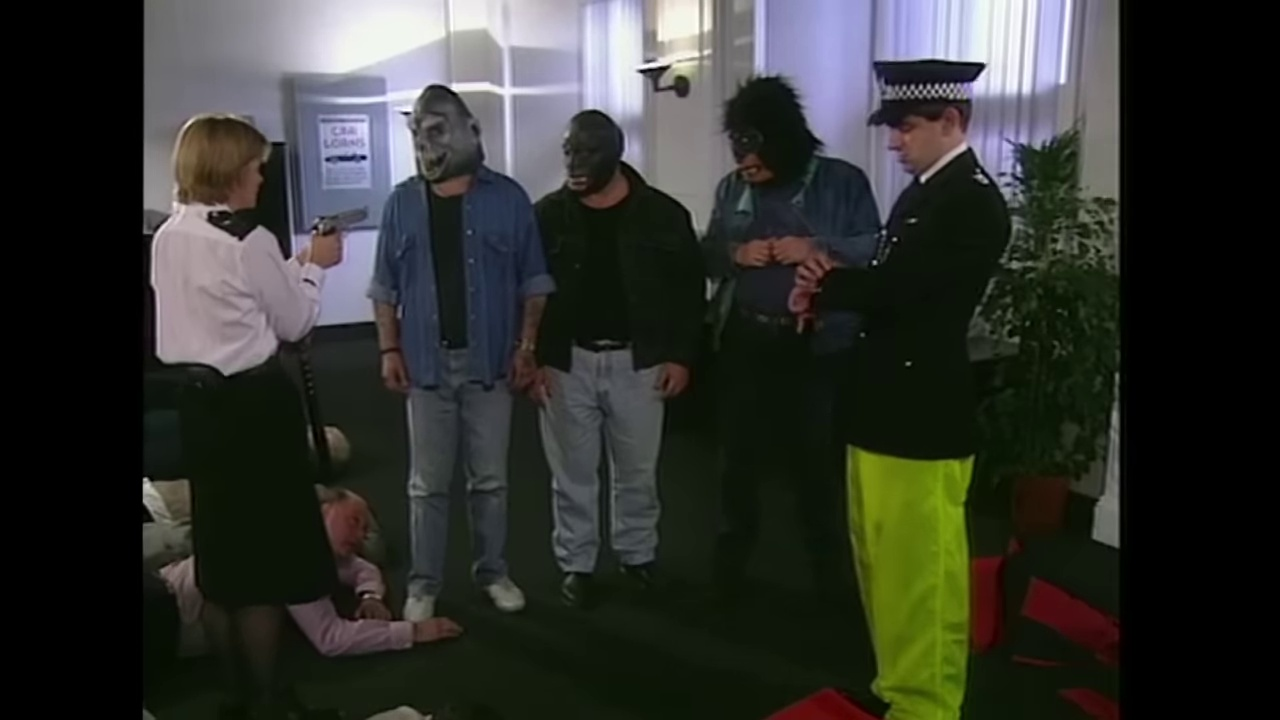gun: (304, 200, 374, 256)
p_w_gun: (150, 111, 349, 720)
p_wo_gun_not_carrying_normal_pose: (789, 57, 1016, 720), (694, 72, 889, 619), (369, 82, 555, 630), (520, 108, 706, 613), (145, 482, 462, 665)
